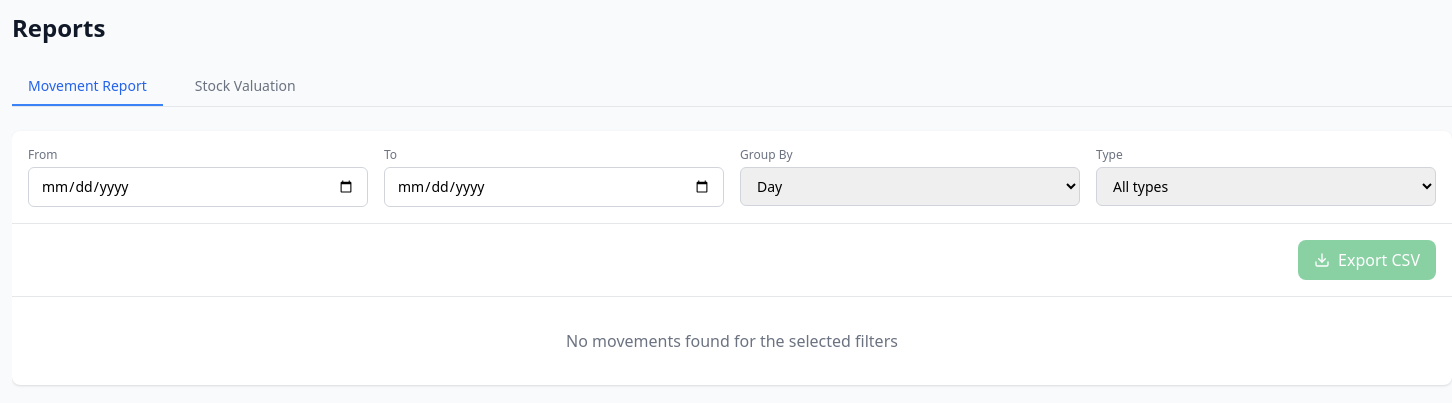
Test case: ReportsPage › shows "No valuation data available" when empty
Click the button "Stock Valuation" at (245, 87), box [179,68,312,106]
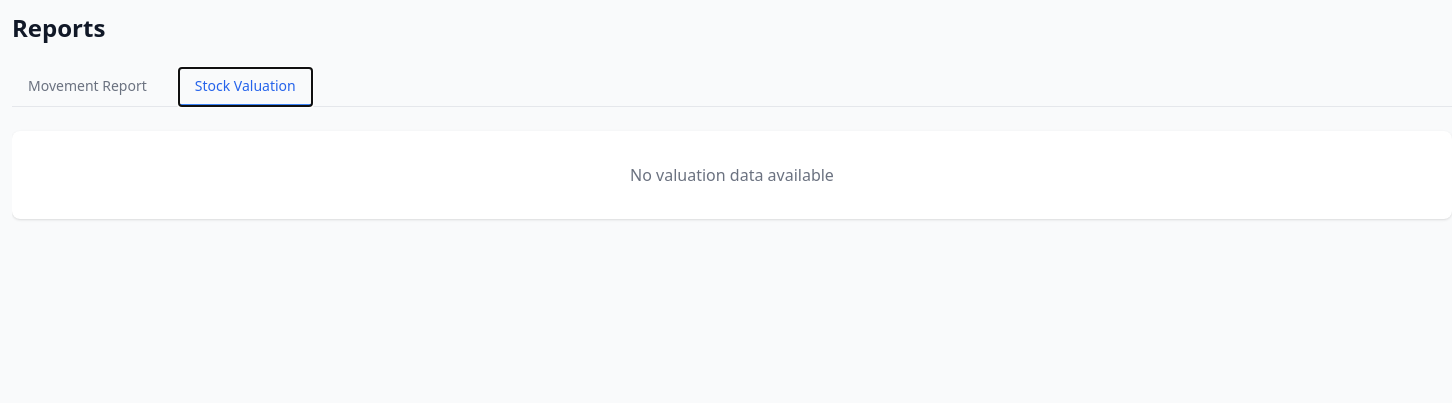
Result: the text "No valuation data available" is shown at [630,164,834,186]
